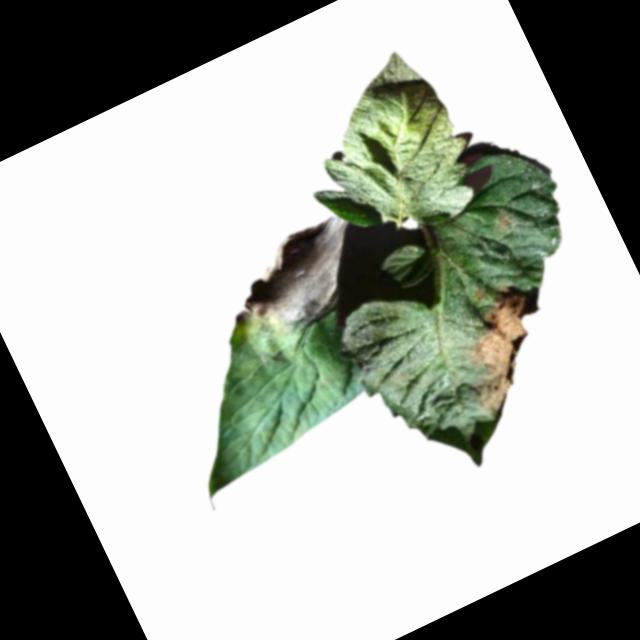Late_blight: (211, 208, 380, 353), (436, 271, 583, 425), (488, 203, 522, 237)
